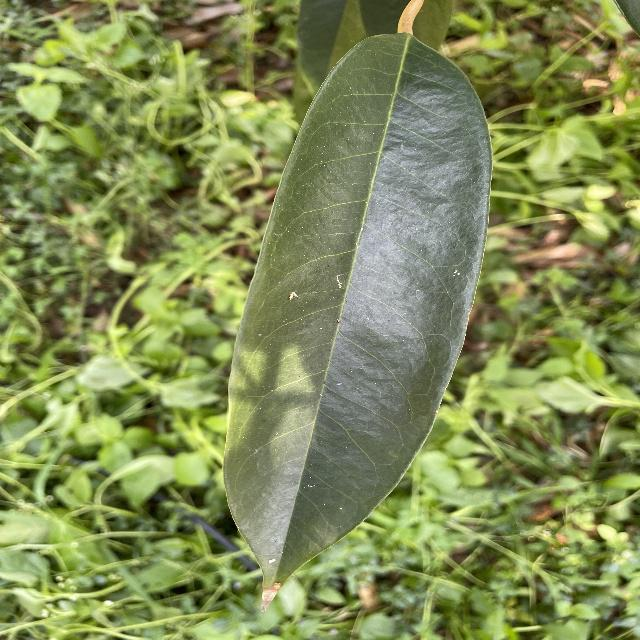No Disease: (211, 23, 499, 609)
